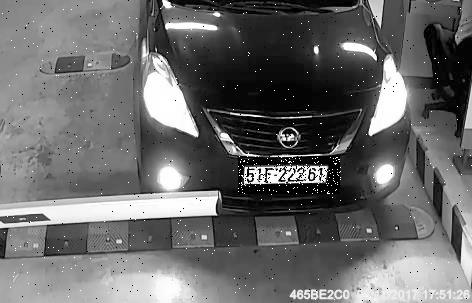License-plate: (240, 157, 343, 195)
